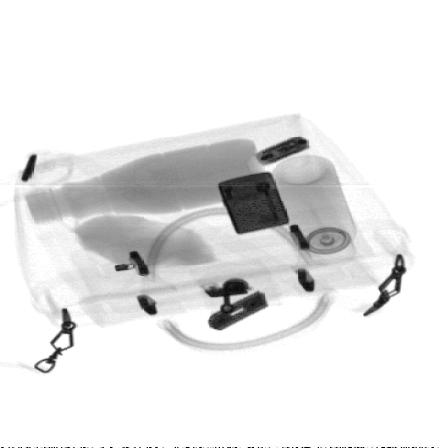Lighter: (219, 173, 291, 236)
Sprayer: (272, 155, 377, 271)
